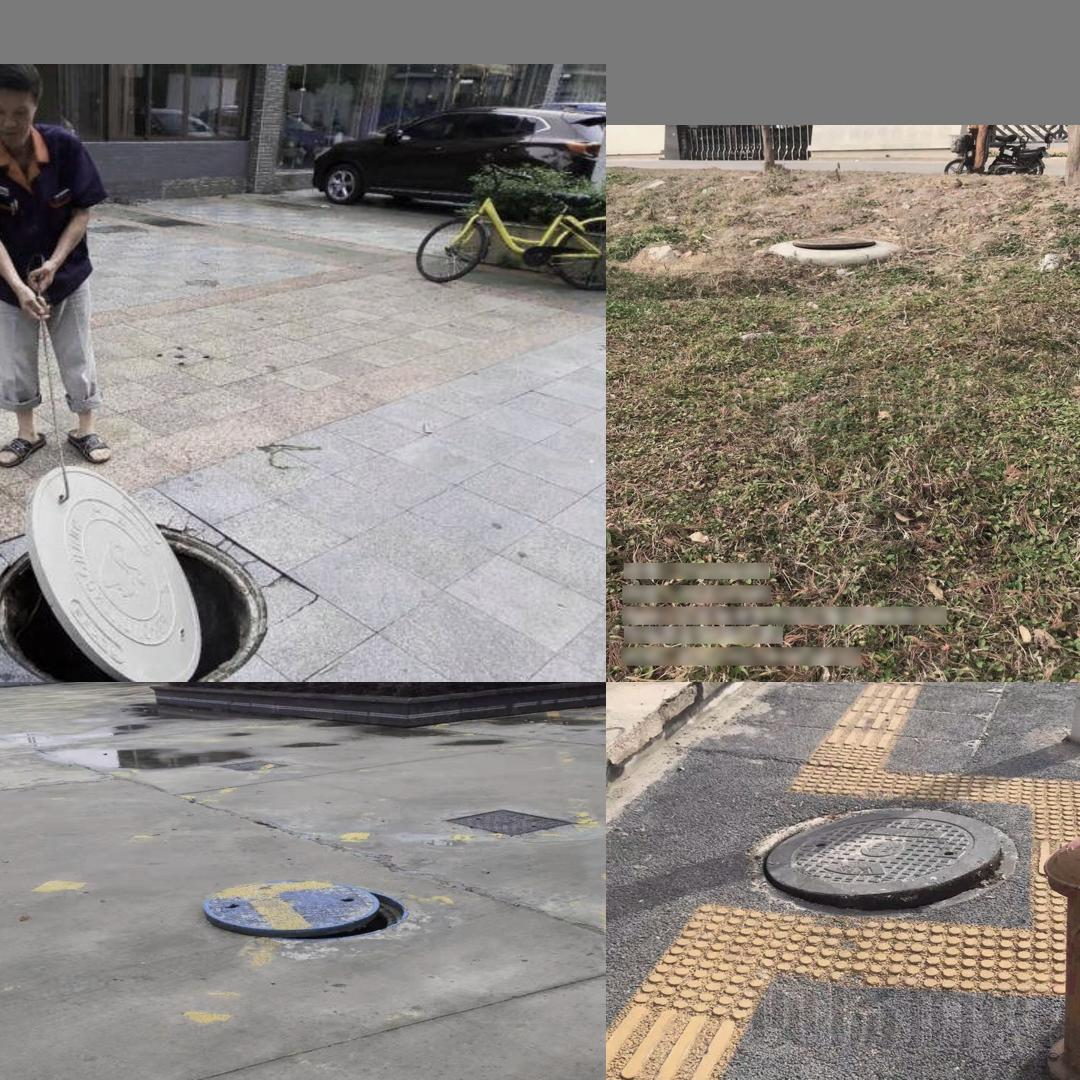uncovered: (0, 459, 298, 682), (756, 797, 1031, 919), (205, 882, 409, 941), (791, 238, 875, 251)
